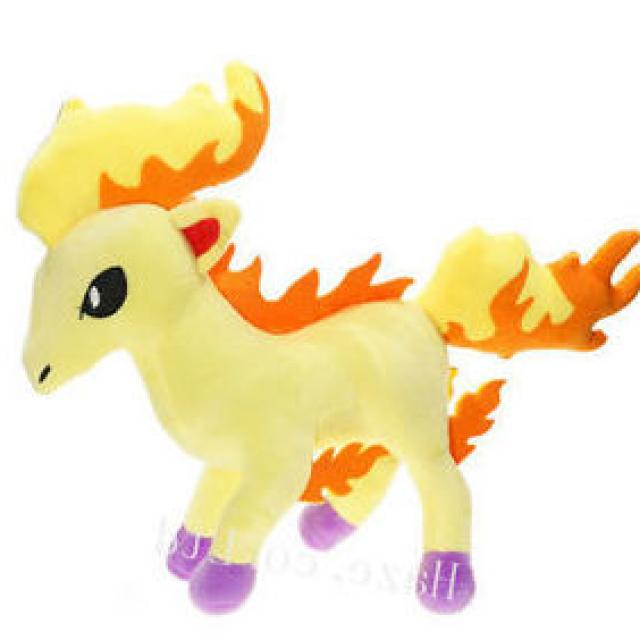Ponyta: (23, 70, 492, 610)
